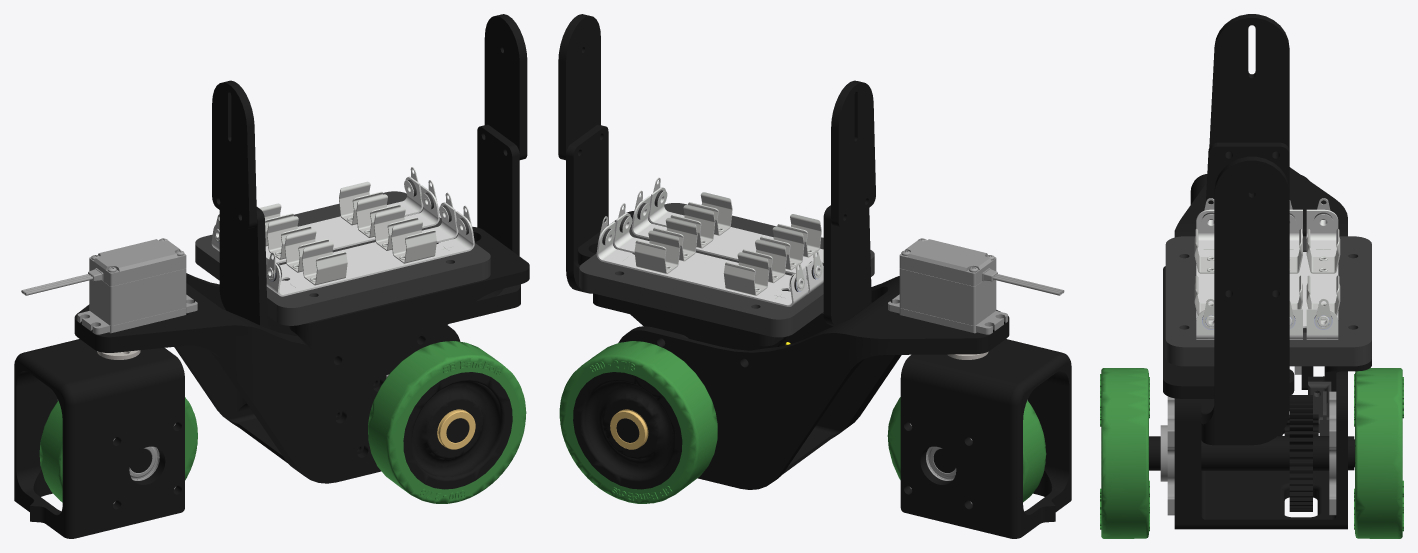
Rendered from v1-servo.glb.
3 views of the same model, side by side, from view 1: azimuth 30°, elevation 25°; view 2: azimuth 150°, elevation 25°; view 3: azimuth 270°, elevation 25° (orthographic). The views are drawn at different scales.
Visible parts, largest first — view 1: object 7, anim_ev1_7_front_wheel_holder_1, object 1, object 15, object 2, object 3, anim_ev1_4_BaneBots_2_875_x0_8_30A_Wheel_4, object 16; view 2: object 7, anim_ev1_7_front_wheel_holder_1, object 1, object 15, object 2, object 3, anim_ev1_4_BaneBots_2_875_x0_8_30A_Wheel_4, object 16; view 3: object 7, object 15, object 2, object 1, object 3, anim_ev1_7_front_wheel_holder_1.
Part boxes in pixels (bbox=[...]): object 7: bbox=[74, 14, 529, 489]; anim_ev1_7_front_wheel_holder_1: bbox=[14, 339, 184, 538]; object 1: bbox=[211, 167, 474, 296]; object 15: bbox=[368, 341, 526, 503]; object 2: bbox=[195, 191, 490, 325]; object 3: bbox=[21, 238, 388, 378]; anim_ev1_4_BaneBots_2_875_x0_8_30A_Wheel_4: bbox=[39, 397, 197, 502]; object 16: bbox=[437, 409, 475, 449]; object 7: bbox=[558, 14, 1009, 489]; anim_ev1_7_front_wheel_holder_1: bbox=[900, 339, 1071, 538]; object 1: bbox=[596, 177, 823, 306]; object 15: bbox=[559, 341, 717, 503]; object 2: bbox=[579, 203, 874, 337]; object 3: bbox=[888, 238, 1064, 334]; anim_ev1_4_BaneBots_2_875_x0_8_30A_Wheel_4: bbox=[887, 397, 1046, 502]; object 16: bbox=[610, 409, 648, 449]; object 7: bbox=[1149, 14, 1371, 529]; object 15: bbox=[1100, 368, 1403, 538]; object 2: bbox=[1165, 236, 1371, 435]; object 1: bbox=[1194, 198, 1340, 339]; object 3: bbox=[1160, 74, 1336, 515]; anim_ev1_7_front_wheel_holder_1: bbox=[1190, 174, 1313, 389].
Size of the model in its own units: 0.2566 by 0.2044 by 0.1297.
